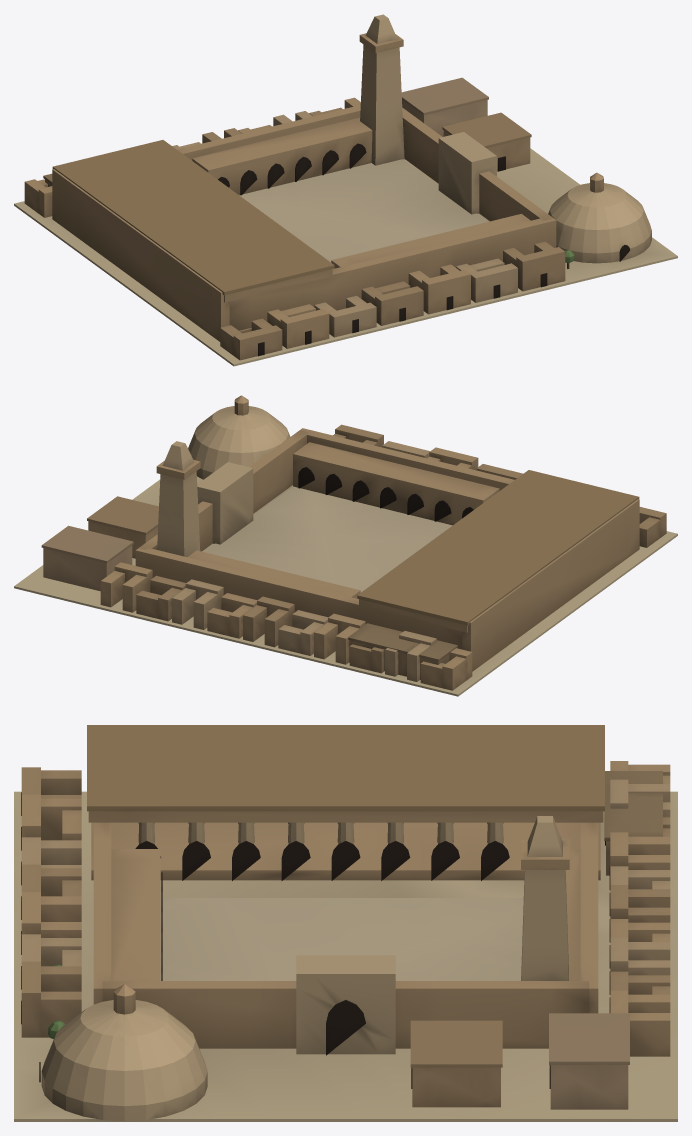
File: beni-makhan.glb
3 views of the same model, one above another, from view 1: azimuth 30°, elevation 25°; view 2: azimuth 150°, elevation 25°; view 3: azimuth 270°, elevation 25° (orthographic). The views are drawn at different scales.
Parts seen in each view (by area): view 1: p1_mosque, p2_cistern, p0_ground; view 2: p1_mosque, p2_cistern, p0_ground; view 3: p1_mosque, p2_cistern, p0_ground.
Part boxes in pixels (x1,y1,x2,y2): p1_mosque: [52, 14, 556, 341]; p2_cistern: [24, 77, 651, 360]; p0_ground: [14, 148, 677, 366]; p1_mosque: [135, 428, 639, 671]; p2_cistern: [41, 395, 666, 690]; p0_ground: [14, 476, 677, 696]; p1_mosque: [87, 725, 604, 1055]; p2_cistern: [21, 761, 670, 1121]; p0_ground: [14, 791, 677, 1121].
Bounding box in the file's own units: 70.5 × 21.3 × 60.
